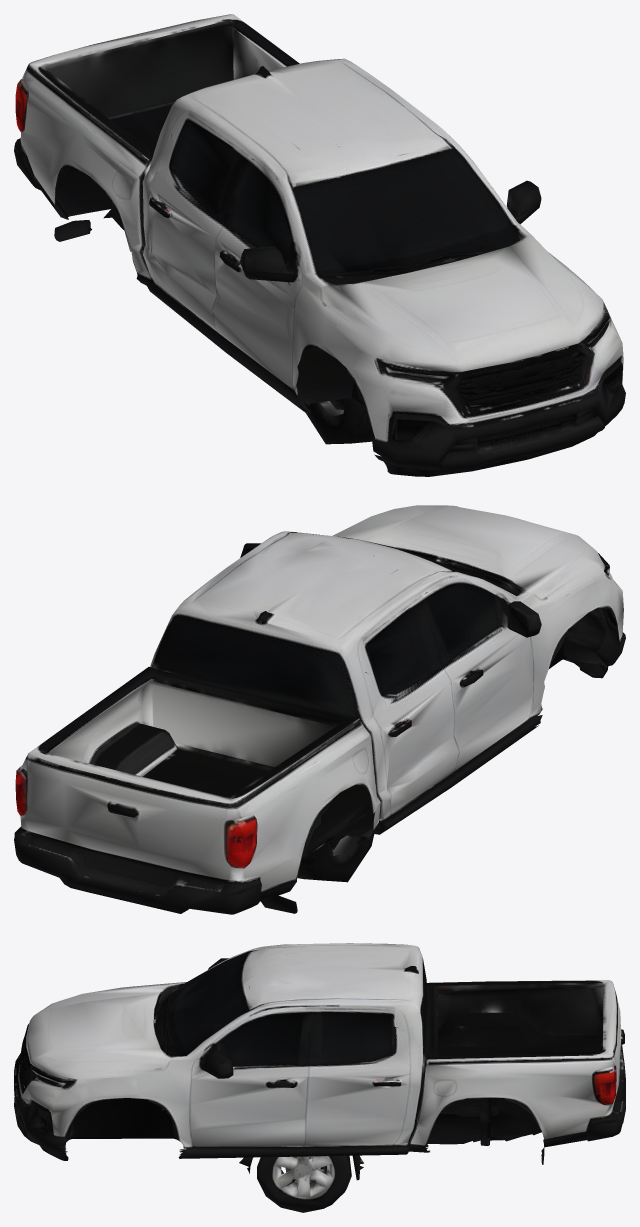
Rendered from civ-ute.glb.
3 renders of one model, top to bottom at view 1: azimuth 30°, elevation 25°; view 2: azimuth 150°, elevation 25°; view 3: azimuth 270°, elevation 25°, orthographic. The views are drawn at different scales.
Parts seen in each view (by area): view 1: body, wheel; view 2: body, wheel; view 3: body, wheel.
Boxes of the visible parts, x1=… form: body: x1=14, y1=14, x2=625, y2=476; wheel: x1=303, y1=398, x2=375, y2=444; body: x1=14, y1=505, x2=625, y2=914; wheel: x1=297, y1=833, x2=374, y2=882; body: x1=14, y1=943, x2=625, y2=1164; wheel: x1=239, y1=1155, x2=363, y2=1212.
Size of what is drawn, in the model's own units: 2.19 by 2.26 by 5.25.
1 material, 1 textured.
